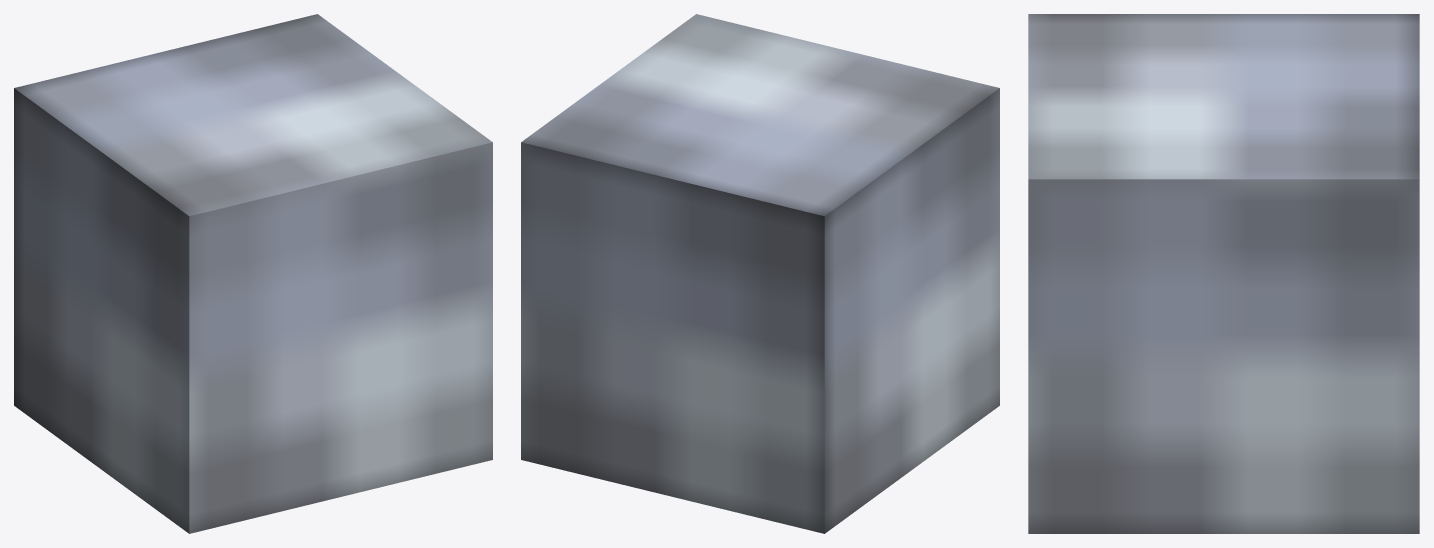
Rendered from ModelOutputRoutingNodeCore.obj.
3 views of the same model, side by side, from view 1: azimuth 30°, elevation 25°; view 2: azimuth 150°, elevation 25°; view 3: azimuth 270°, elevation 25° (orthographic). The views are drawn at different scales.
Visible parts, largest first — view 1: ModelRoutingNodeCore; view 2: ModelRoutingNodeCore; view 3: ModelRoutingNodeCore.
Part boxes in pixels (x1,y1,x2,y2): ModelRoutingNodeCore: [14, 14, 492, 533]; ModelRoutingNodeCore: [521, 14, 999, 533]; ModelRoutingNodeCore: [1028, 14, 1419, 533].
Bounding box in the file's own units: 0.25 × 0.25 × 0.25.
